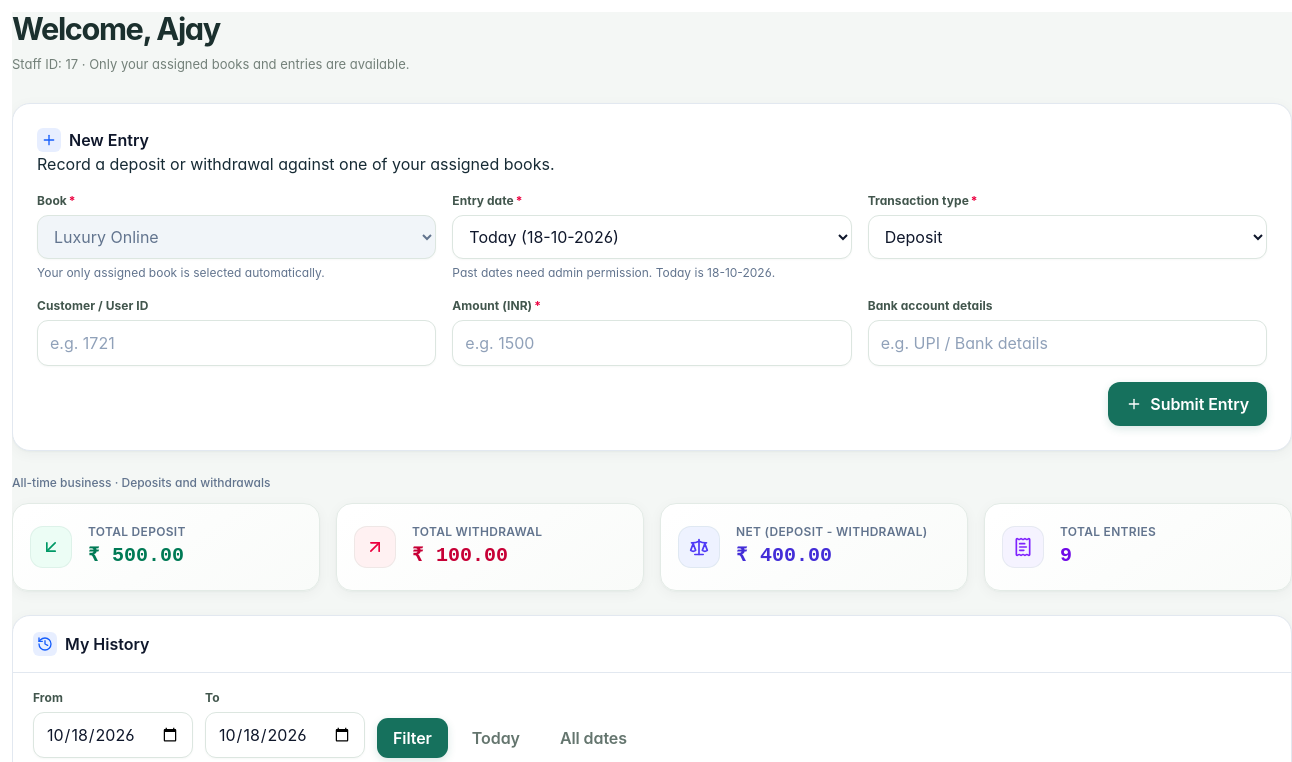
Test: submits withdrawals without an approval message
Select "Withdrawal" in the dropdown labelled "Transaction type*" at (1067, 237), box 868,215 -> 1267,259
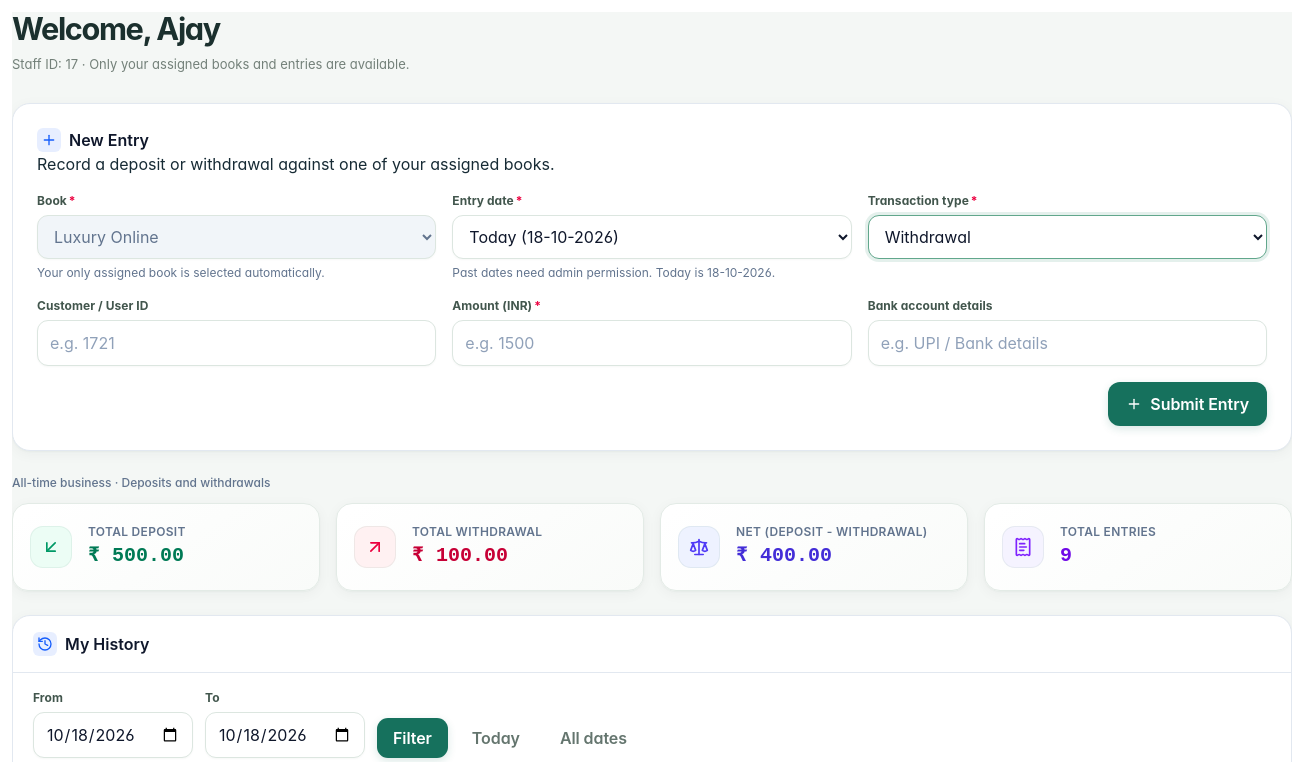
Type "25" into the field labelled "Amount (INR)*" at (652, 343), box 452,320 -> 852,366
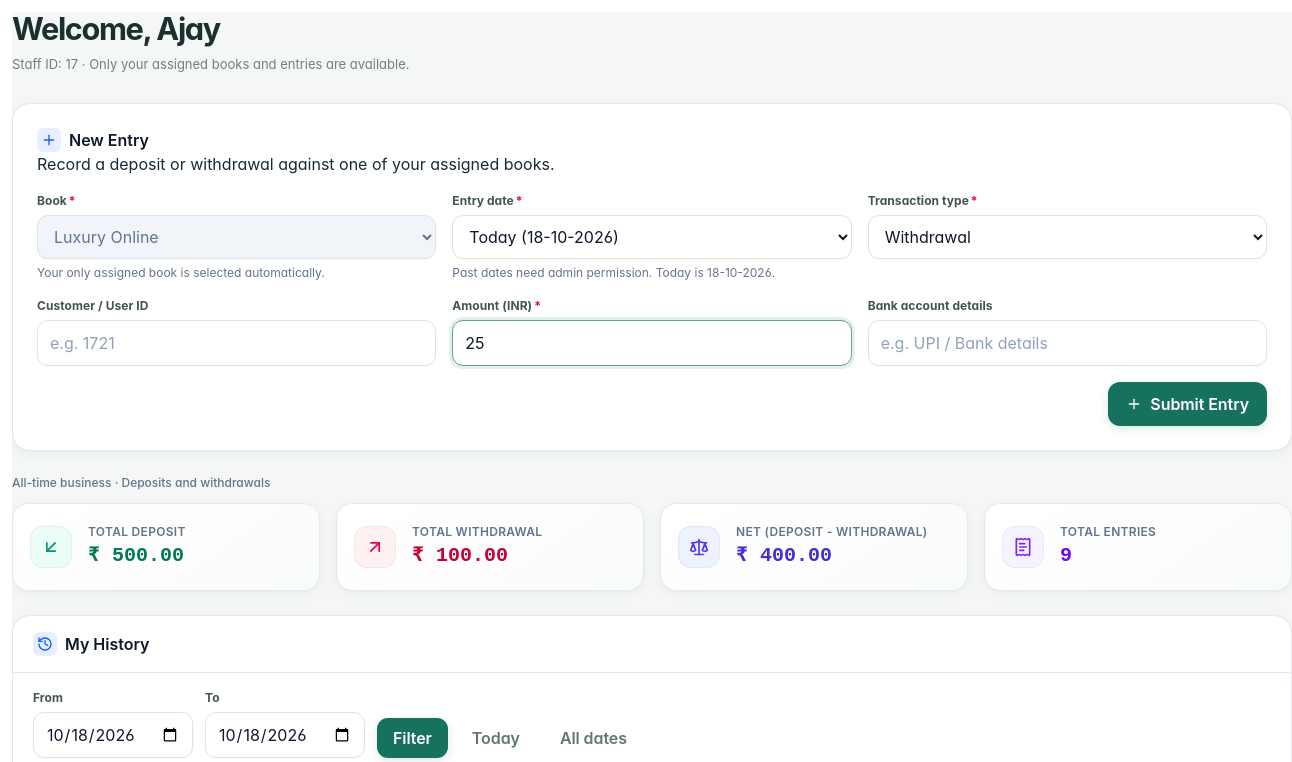
Click the button "Submit Entry" at (1188, 404), box 1108,382 -> 1267,426
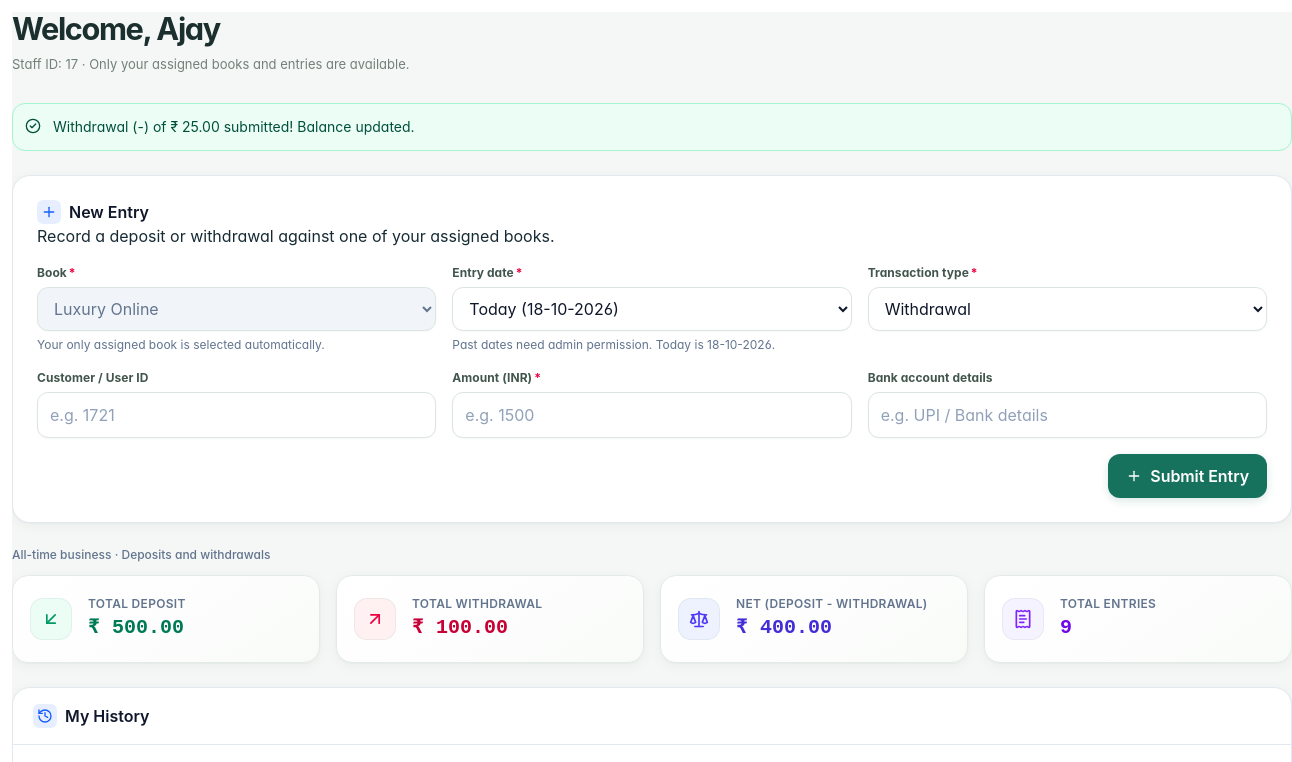
Expected: the text "Withdrawal (-) of ₹ 25.00 submitted! Balance updated." is shown, 53,116 -> 415,138
